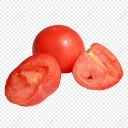tomato: (6, 52, 62, 105), (31, 23, 85, 73)
